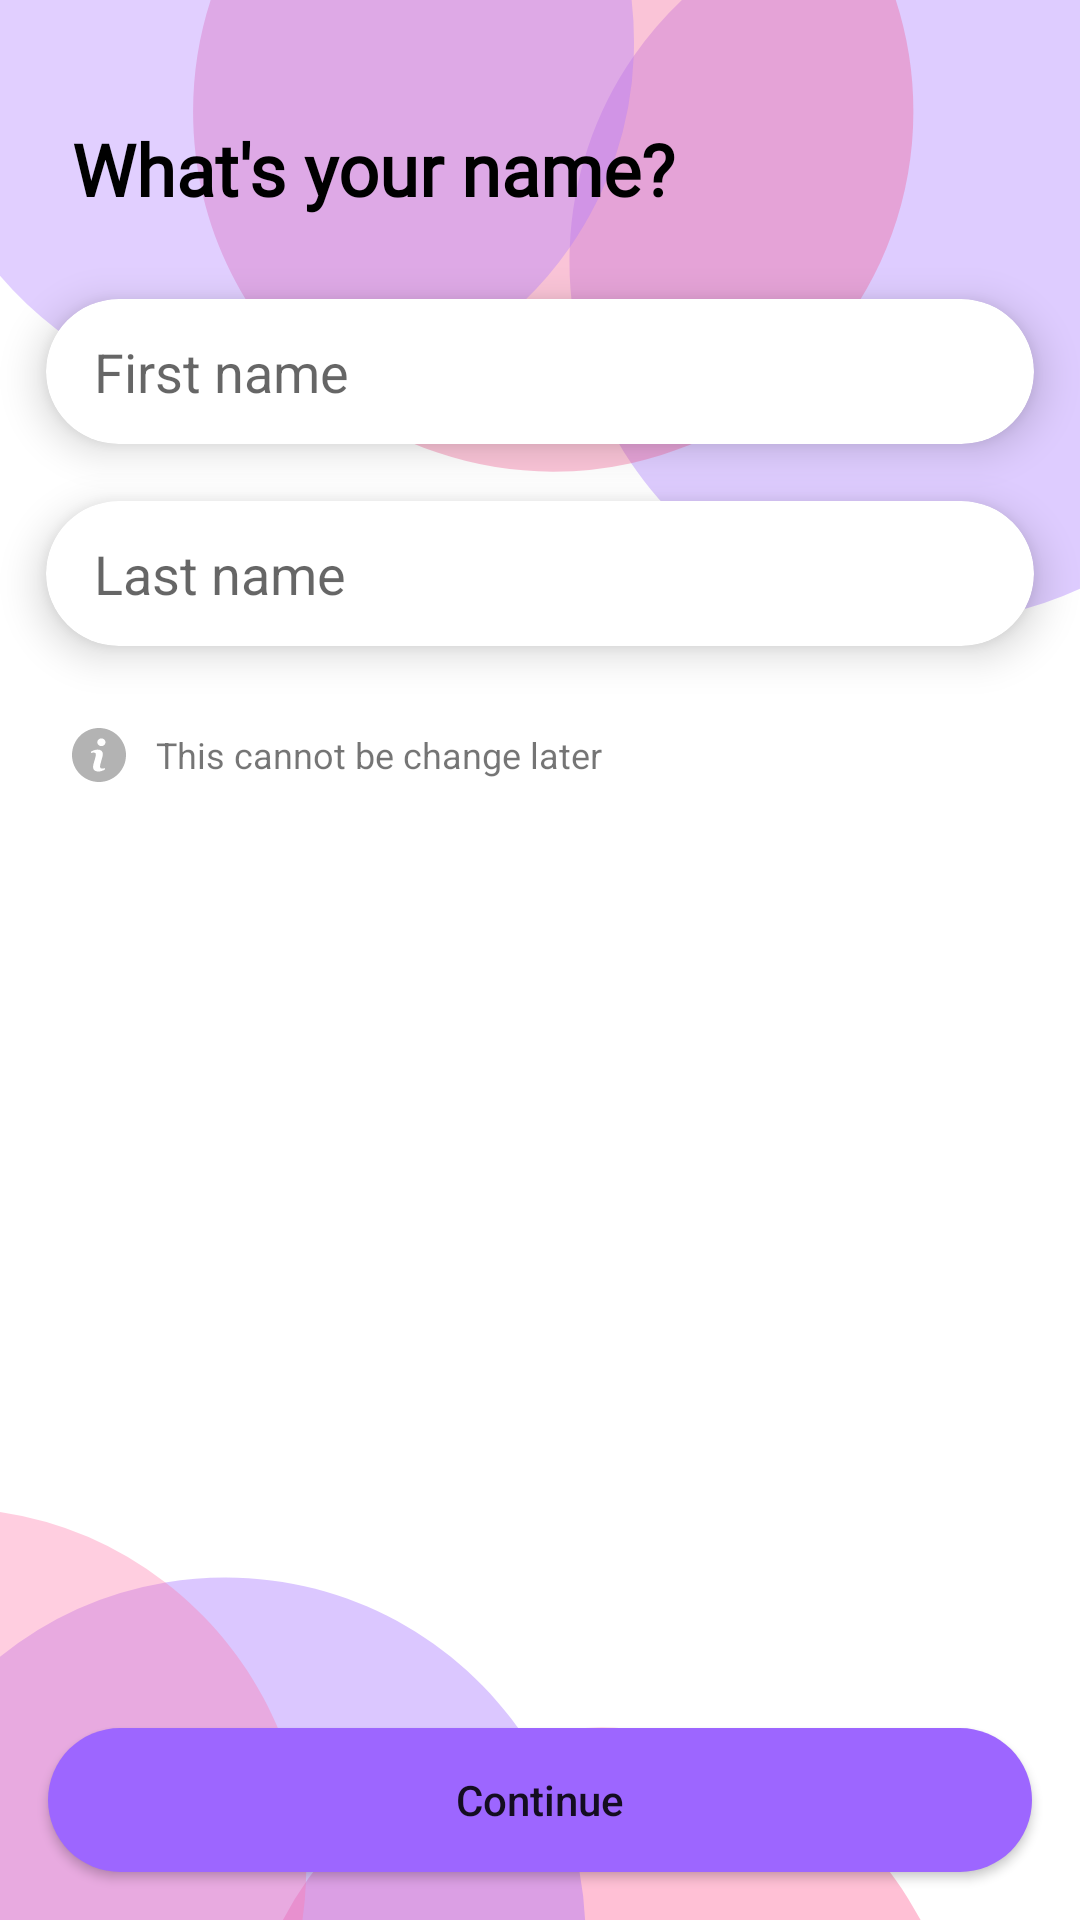

Screen size 1080w x 1920h. Icon name, then its box in pixels as [x1=x1, y1=y1, x2=x2, y2=y2]:
info: [x1=72, y1=728, x2=126, y2=782]
